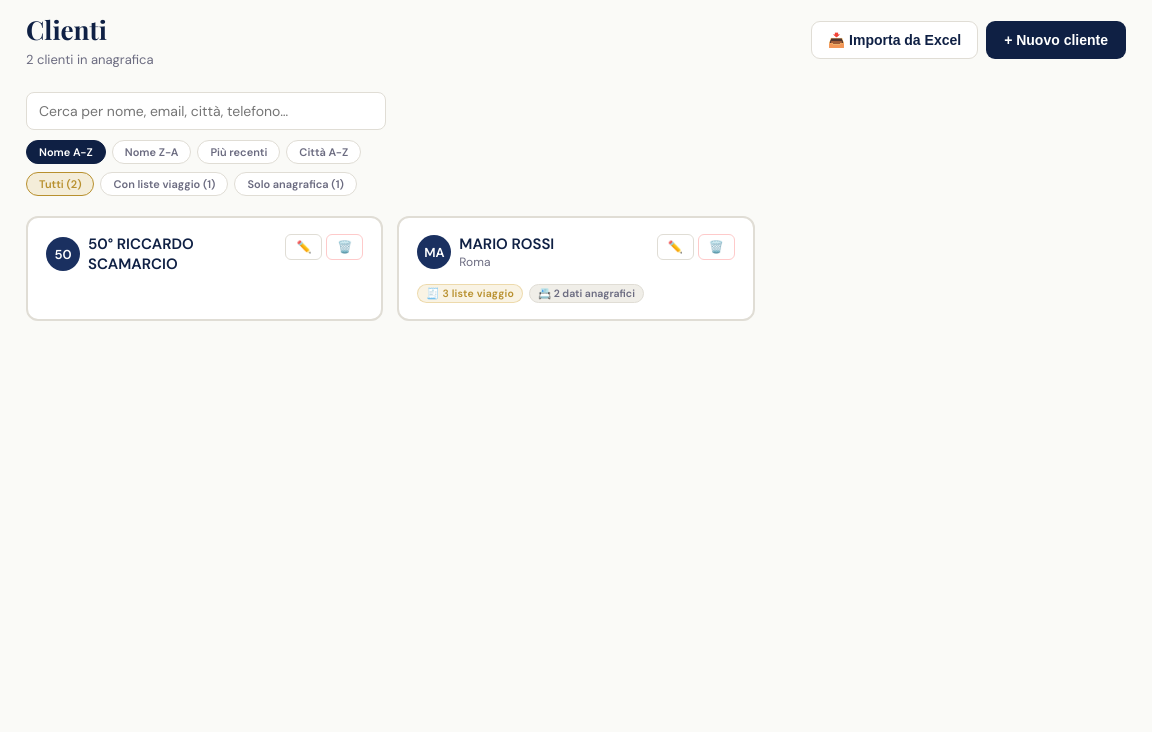
Scheda cliente — dati anagrafici ereditati › nel pannello i campi importati sono leggibili per intero
Expected: the text "🧾 3 liste viaggio" is shown, [417, 284, 523, 303]
What coordinates should you click on to do the following:
click the text "MARIO ROSSI"
I would click on:
 (507, 244)
Its box is [459, 234, 554, 254].
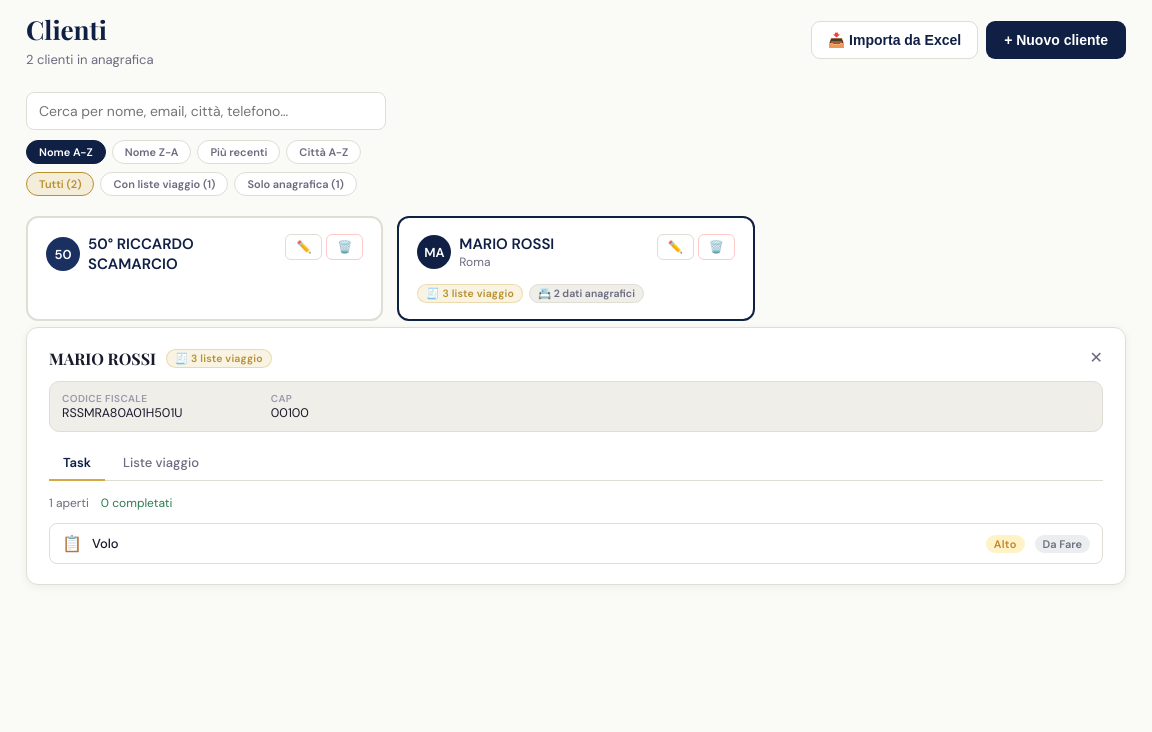
Now the text "Codice Fiscale" is shown, box [62, 392, 147, 405]
Now the text "RSSMRA80A01H501U" is shown, box [62, 405, 182, 421]
Now the text "Cap" is shown, box [271, 392, 292, 405]
